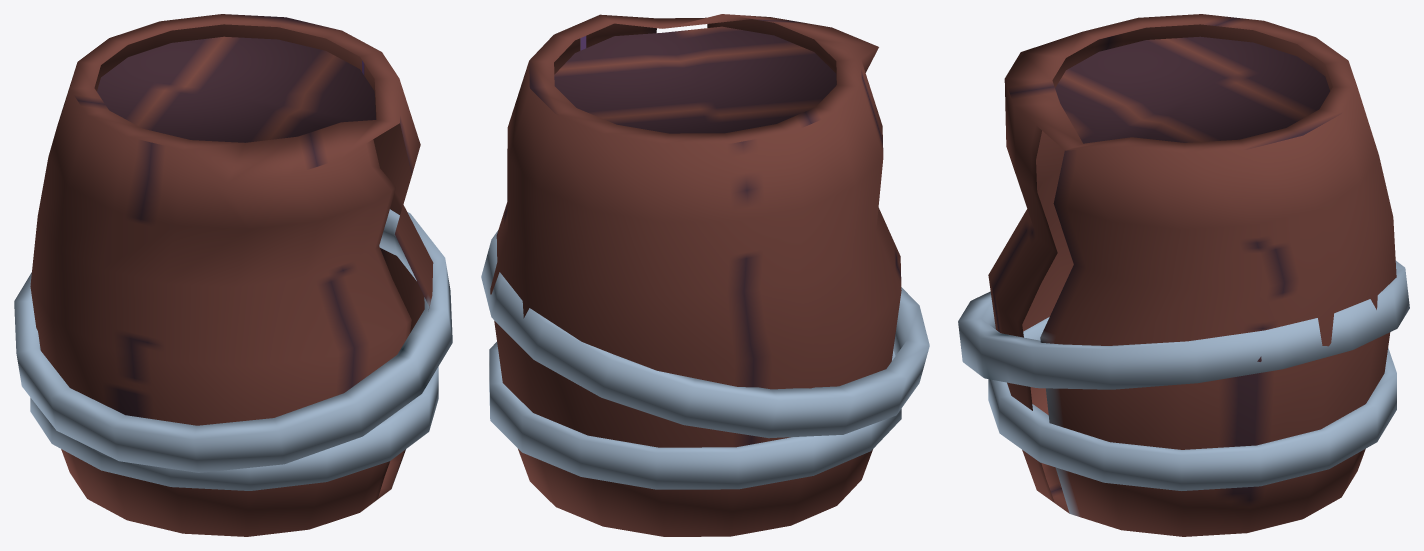
The model's file is BarrilQuebrado.fbx.
3 views of the same model, side by side, from view 1: azimuth 30°, elevation 25°; view 2: azimuth 150°, elevation 25°; view 3: azimuth 270°, elevation 25° (orthographic). The views are drawn at different scales.
Parts seen in each view (by area): view 1: Barril; view 2: Barril; view 3: Barril.
Boxes of the visible parts, x1,y1,x2,y2 form: Barril: (14, 14, 452, 536); Barril: (481, 14, 929, 536); Barril: (958, 14, 1409, 536).
Size of the model in its own units: 155 by 160 by 150.
